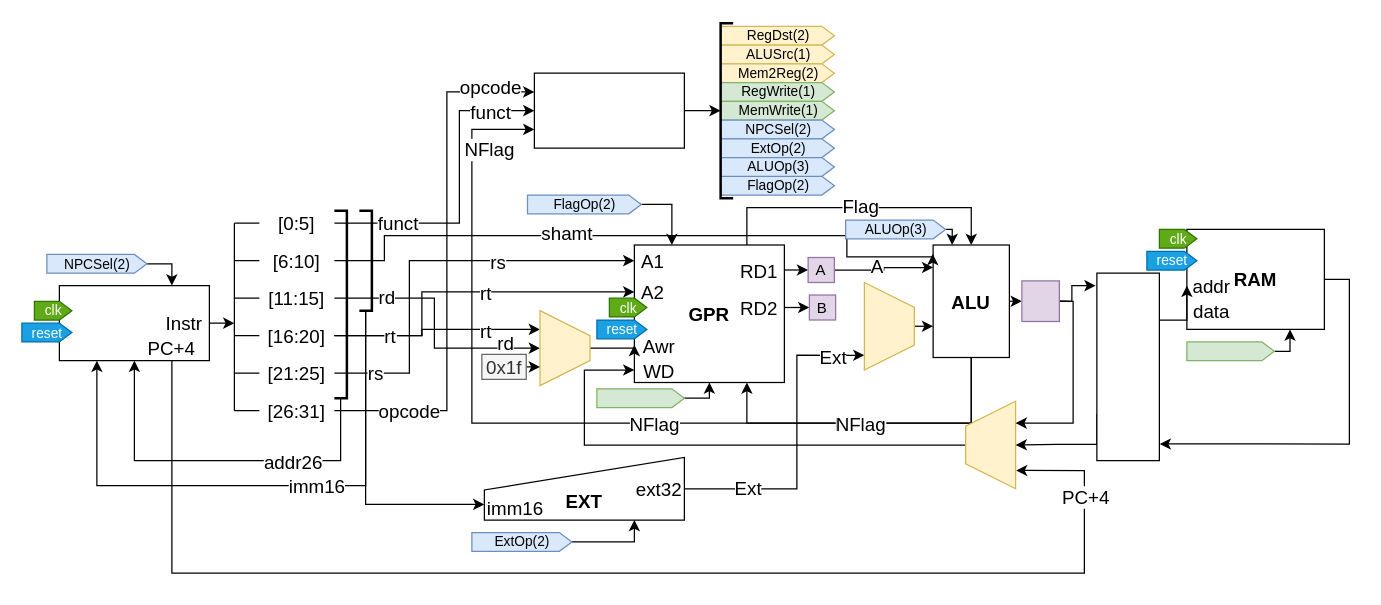
The diagram is 1381 pixels wide and 605 high, and some of its shapes have lost their labels. The box of each missing label's shape, as (x1, y1, x2, y2) in pixels:
ALU Out: (1021, 280, 1059, 322)
ALU Src: (863, 281, 914, 370)
BAC: (1096, 272, 1159, 461)
Controller: (533, 72, 684, 148)
IFU: (58, 284, 209, 361)
Mem 2Reg: (964, 400, 1016, 489)
MemWrite: (1186, 341, 1274, 361)
Reg Dst: (539, 309, 590, 386)
RegWrite: (596, 388, 684, 408)
